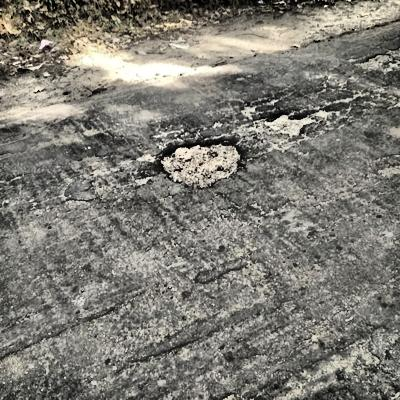pothole: (157, 137, 243, 189), (262, 111, 317, 137)
